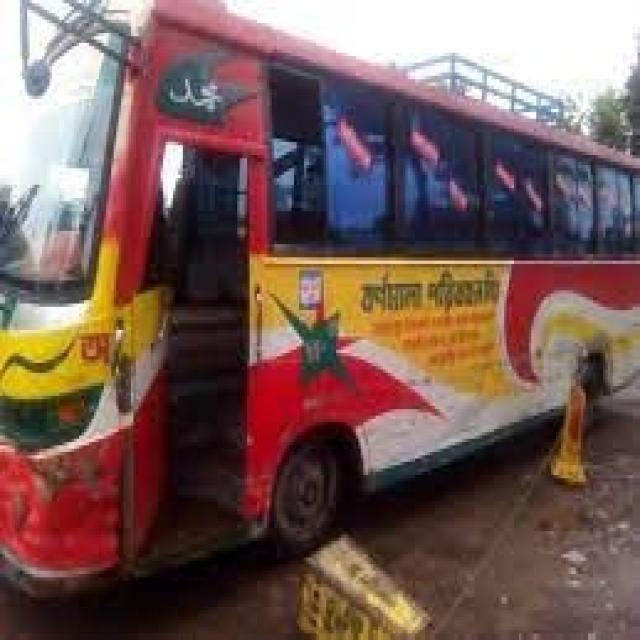bus: (6, 1, 629, 628)
